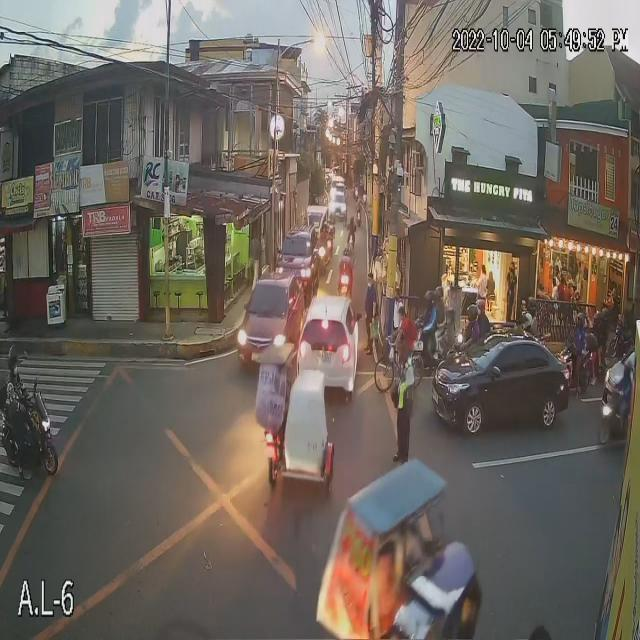helmet: (8, 345, 22, 379), (434, 285, 448, 304), (474, 298, 489, 315), (575, 310, 585, 334), (464, 304, 477, 322), (519, 312, 534, 327), (525, 297, 541, 311), (600, 305, 612, 322), (423, 292, 435, 308), (592, 312, 602, 331), (342, 247, 352, 256), (350, 215, 356, 227)
motorcycle: (0, 389, 59, 469), (597, 400, 640, 452), (562, 345, 598, 390), (334, 266, 356, 300), (342, 233, 357, 253), (356, 209, 364, 224)
rider: (0, 339, 36, 439), (414, 289, 439, 342), (431, 276, 453, 327), (526, 291, 551, 331), (462, 303, 481, 354), (569, 309, 588, 348), (478, 293, 495, 336), (515, 307, 532, 340), (341, 245, 354, 275), (591, 313, 602, 341), (600, 305, 610, 335), (345, 214, 357, 238)
